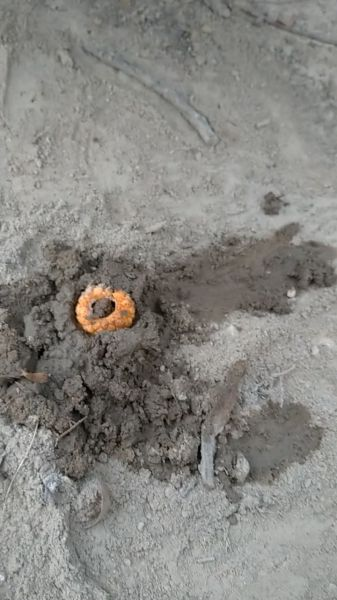eggs: (70, 281, 138, 336)
